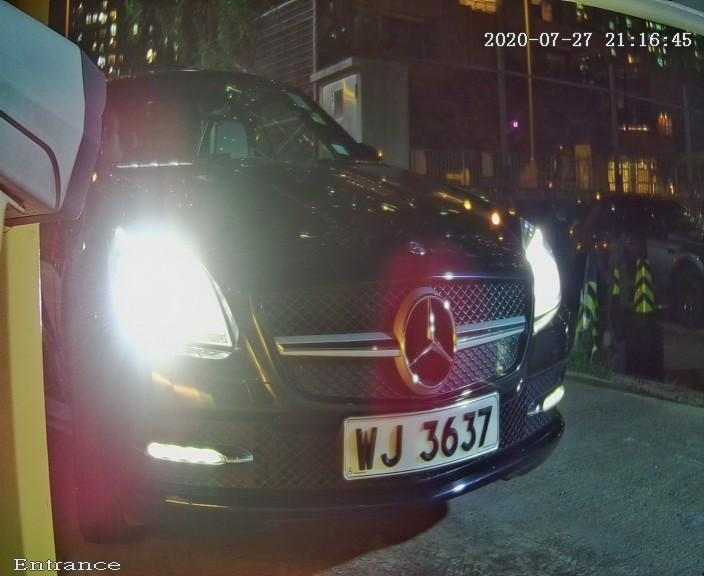privatecar: (70, 24, 588, 533)
